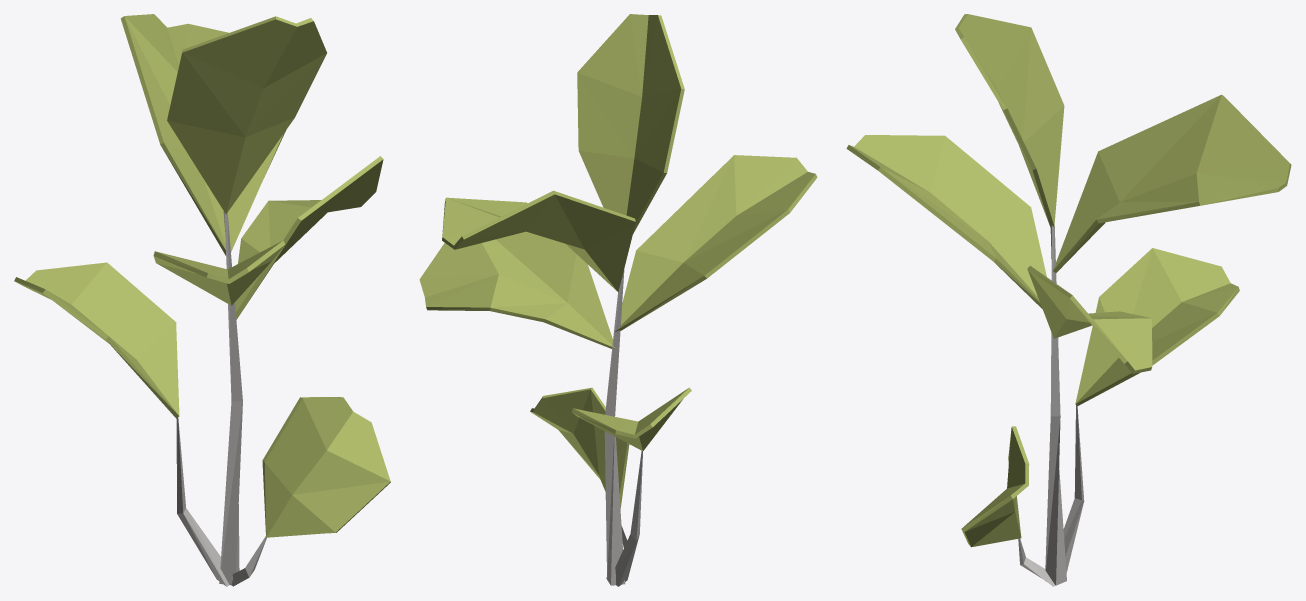
File: ChamaedoreaElegans.glb
3 renders of one model, left to right at view 1: azimuth 30°, elevation 25°; view 2: azimuth 150°, elevation 25°; view 3: azimuth 270°, elevation 25°, orthographic. The views are drawn at different scales.
Visible parts, largest first — view 1: Crown, Trunk; view 2: Crown, Trunk; view 3: Crown, Trunk.
Boxes of the visible parts, <box> form: Crown: <box>14,14,390,537</box>; Trunk: <box>176,211,266,586</box>; Crown: <box>419,14,817,508</box>; Trunk: <box>604,269,642,586</box>; Crown: <box>846,14,1291,547</box>; Trunk: <box>1018,225,1084,586</box>.
Bounding box in the file's own units: 1.57 × 2.82 × 2.01.
